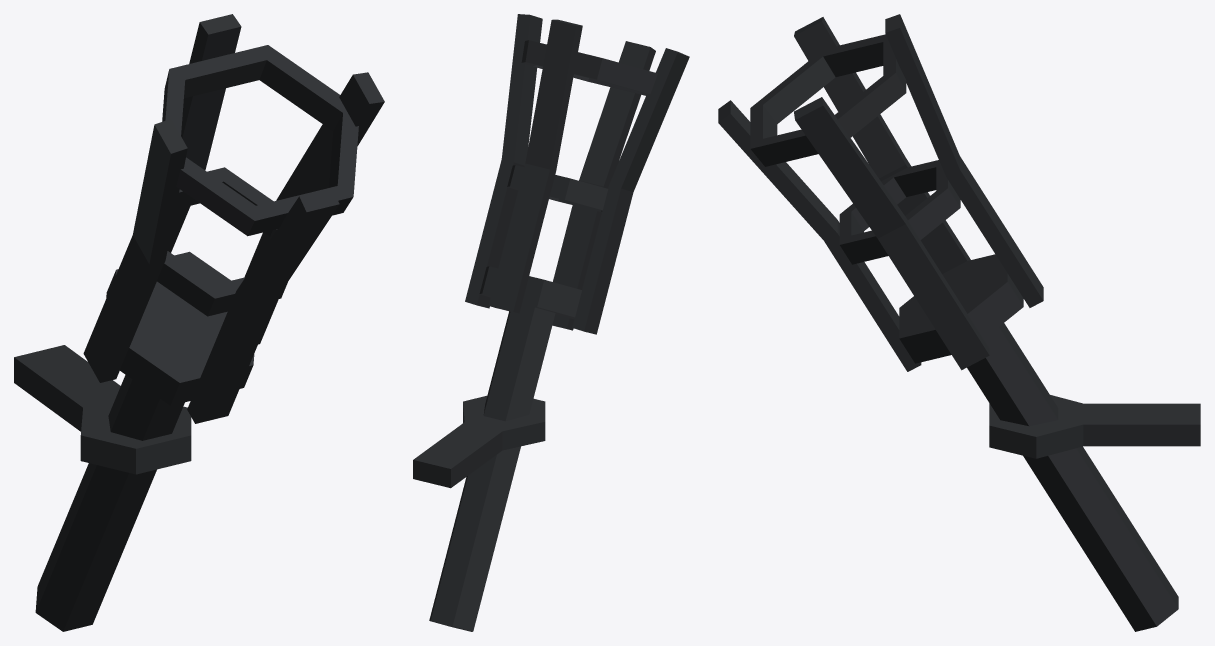
Rendered from torch.glb.
3 views of the same model, side by side, from view 1: azimuth 30°, elevation 25°; view 2: azimuth 150°, elevation 25°; view 3: azimuth 270°, elevation 25° (orthographic). The views are drawn at different scales.
Parts seen in each view (by area): view 1: SM_Prop_Dwarf_Torch_01; view 2: SM_Prop_Dwarf_Torch_01; view 3: SM_Prop_Dwarf_Torch_01.
Boxes of the visible parts, x1,y1,x2,y2 form: SM_Prop_Dwarf_Torch_01: [14, 14, 384, 631]; SM_Prop_Dwarf_Torch_01: [413, 14, 689, 631]; SM_Prop_Dwarf_Torch_01: [718, 14, 1200, 631].
Size of the model in its own units: 0.2468 by 0.7845 by 0.5671.
Materials: 1 (1 with a texture image).
